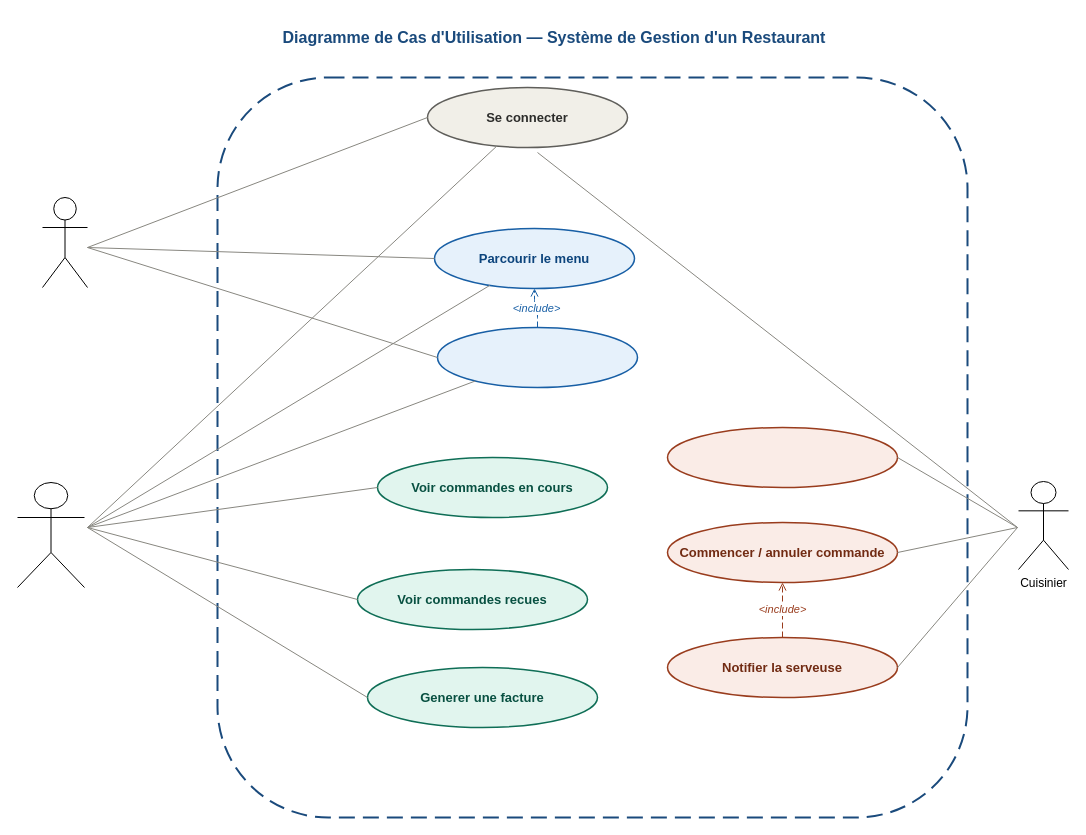
The diagram is 1086 pixels wide and 835 high, and some of its shapes have lost their labels. Here are the shapes that lost their labels. From the top down, the centre of each, then its label:
At pixel 65 242: "Client".
At pixel 537 357: "Commander des plats".
At pixel 782 457: "Gérer les plats".
At pixel 50 535: "Serveuse".
